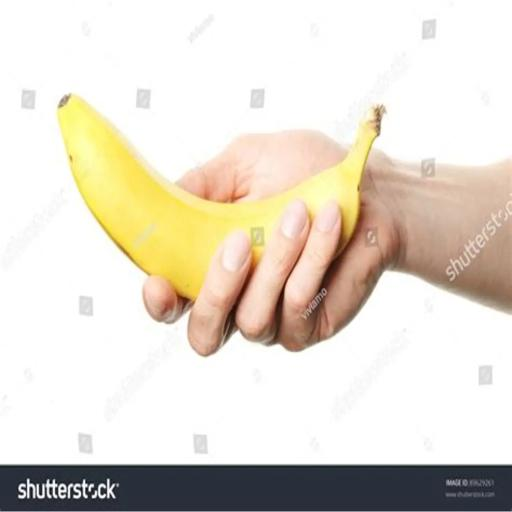banana: (58, 95, 385, 299)
